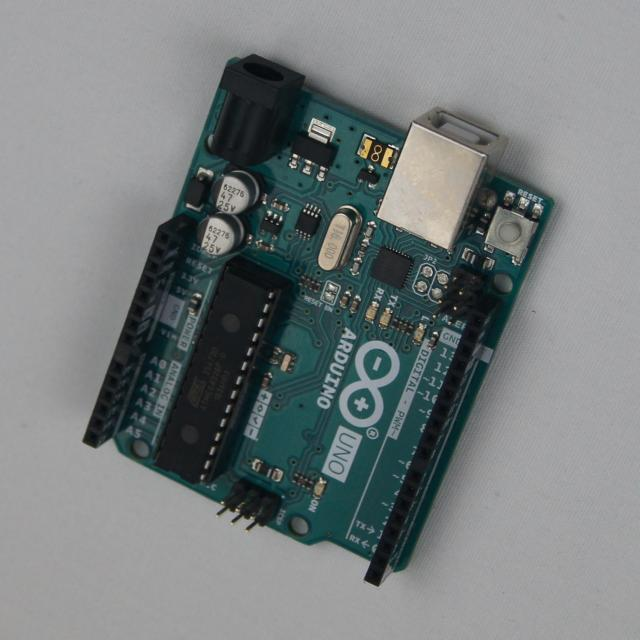Arduino Uno -Green-: (84, 56, 550, 586)
